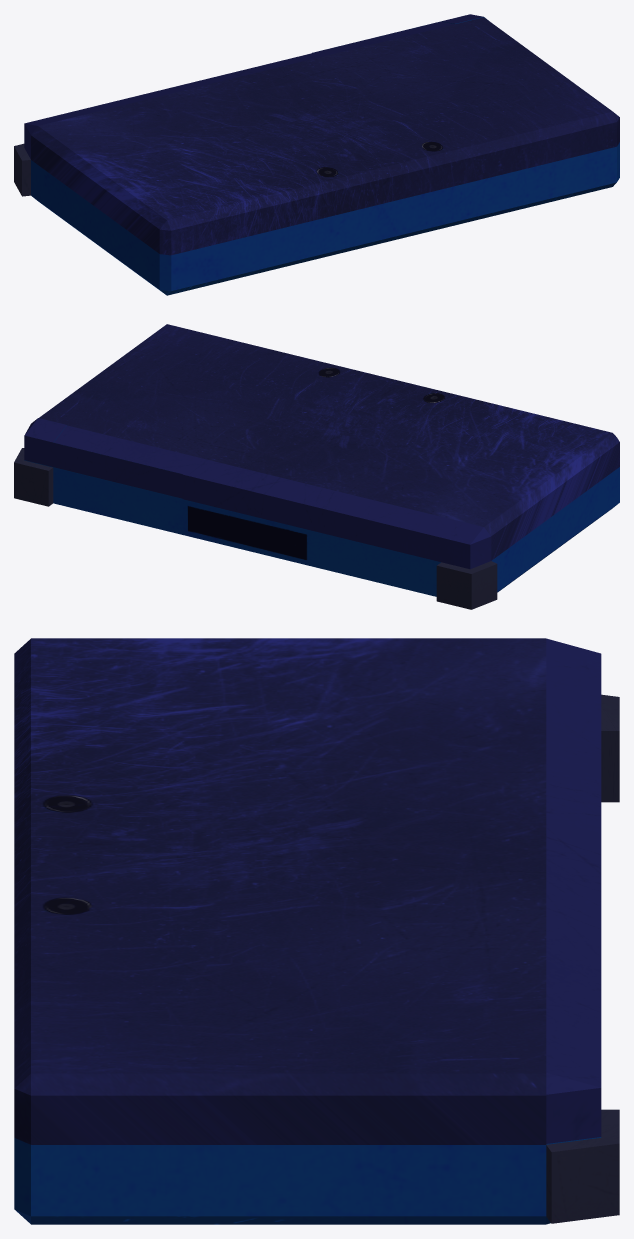
File: 3DS_MOD.fbx
The picture shows the model from 3 angles, top to bottom: view 1: azimuth 30°, elevation 25°; view 2: azimuth 150°, elevation 25°; view 3: azimuth 270°, elevation 25°; orthographic projection. The views are drawn at different scales.
Parts seen in each view (by area): view 1: pCube9; view 2: pCube9; view 3: pCube9.
Part boxes in pixels (x1,y1,x2,y2): pCube9: (14, 14, 619, 295); pCube9: (14, 324, 619, 609); pCube9: (14, 638, 619, 1224).
Bounding box in the file's own units: 17.99 × 2.75 × 9.92.
